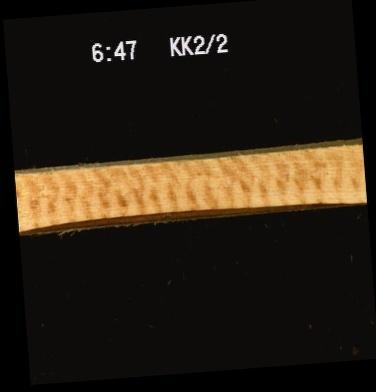wave: (17, 201, 366, 228)
